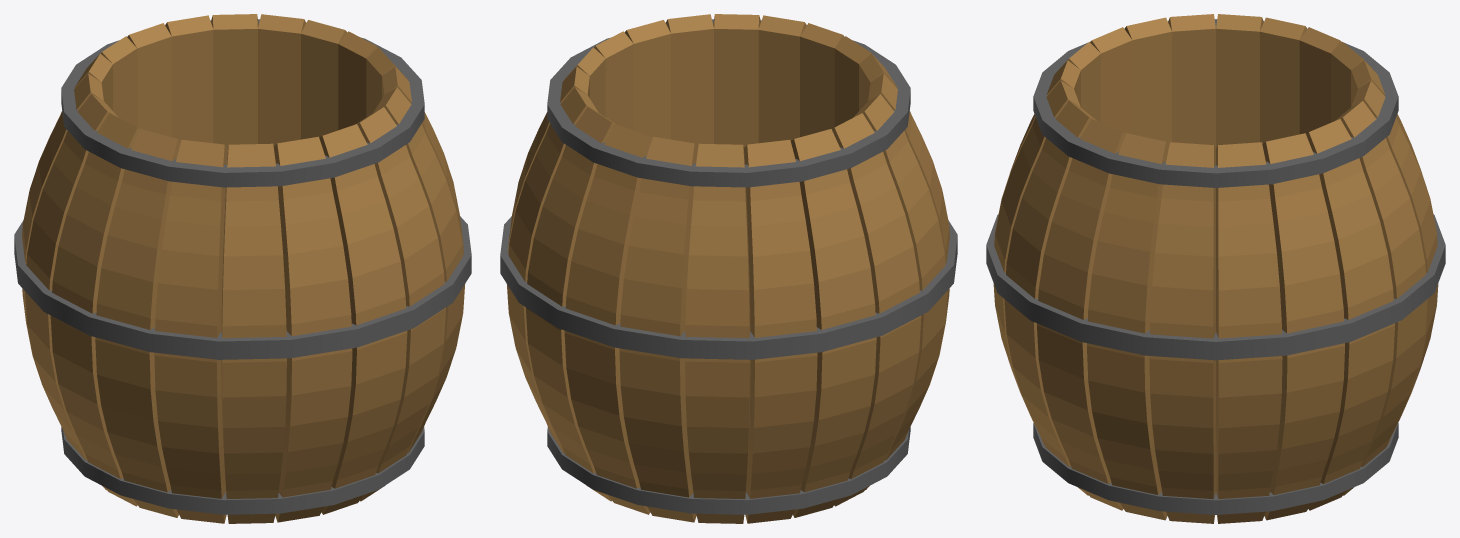
The model's file is BarilPoulet.fbx.
3 views of the same model, side by side, from view 1: azimuth 30°, elevation 25°; view 2: azimuth 150°, elevation 25°; view 3: azimuth 270°, elevation 25° (orthographic).
Parts seen in each view (by area): view 1: pCylinder1, pCylinder4, pCylinder3, pCylinder2; view 2: pCylinder1, pCylinder4, pCylinder3, pCylinder2; view 3: pCylinder1, pCylinder4, pCylinder3, pCylinder2.
Part boxes in pixels (left/top/right/bottom): pCylinder1: left=22, top=14, right=464, bottom=523; pCylinder4: left=14, top=216, right=471, bottom=359; pCylinder3: left=61, top=19, right=424, bottom=187; pCylinder2: left=61, top=427, right=424, bottom=514; pCylinder1: left=507, top=14, right=949, bottom=523; pCylinder4: left=500, top=216, right=957, bottom=359; pCylinder3: left=547, top=19, right=910, bottom=187; pCylinder2: left=547, top=427, right=910, bottom=514; pCylinder1: left=993, top=14, right=1438, bottom=523; pCylinder4: left=986, top=214, right=1445, bottom=360; pCylinder3: left=1033, top=19, right=1398, bottom=187; pCylinder2: left=1033, top=423, right=1398, bottom=514.
Bounding box in the file's own units: 44.13 × 40.09 × 44.13.
